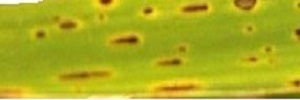RiceBrownSpot: (50, 1, 269, 50), (53, 55, 261, 99)
